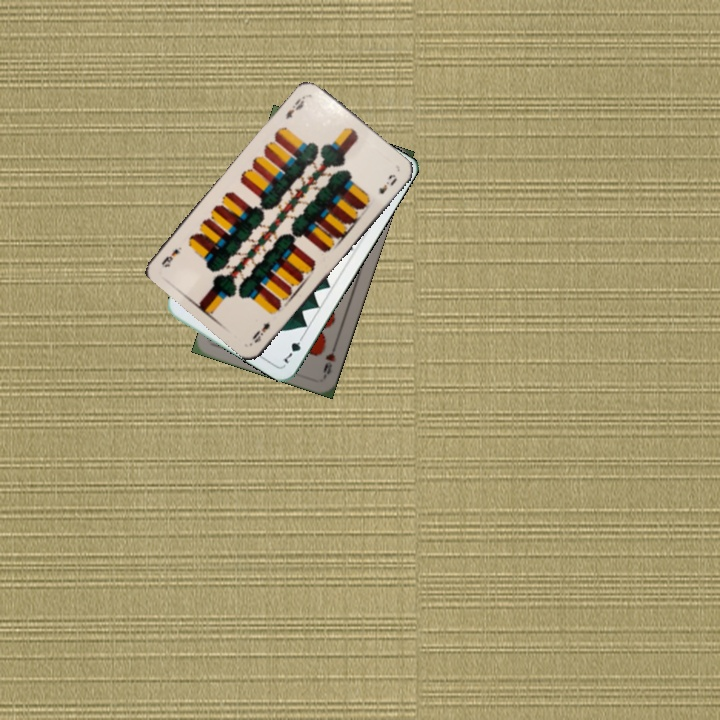E9: (281, 92, 308, 122), (248, 319, 273, 346)
G7: (278, 330, 307, 366)
H9: (319, 340, 340, 379)
